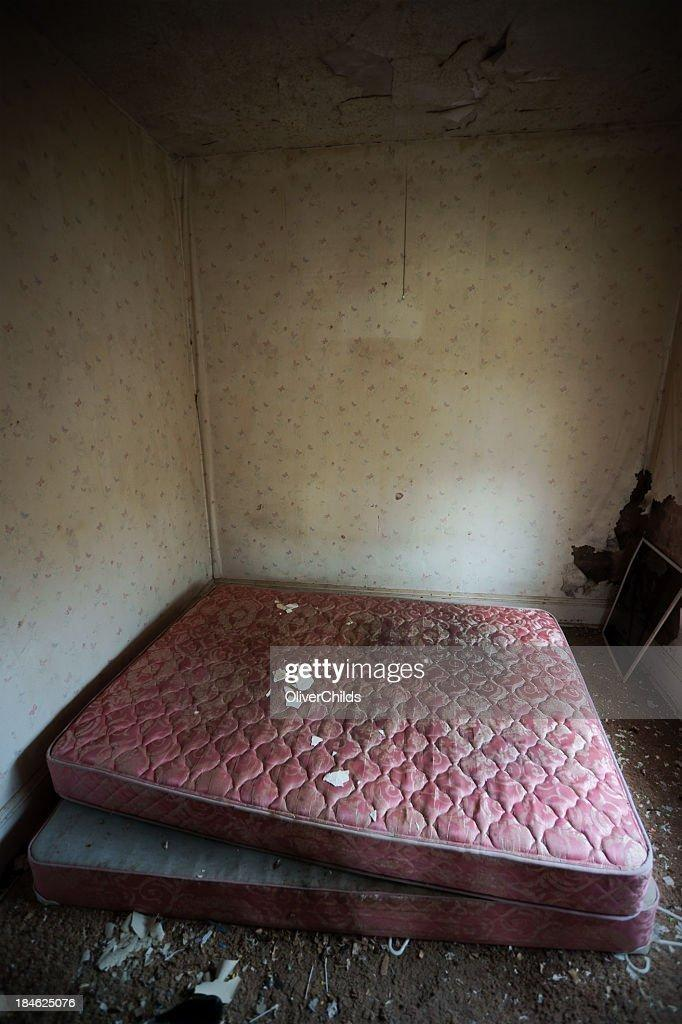Bed-Mattress: (48, 510, 658, 943)
